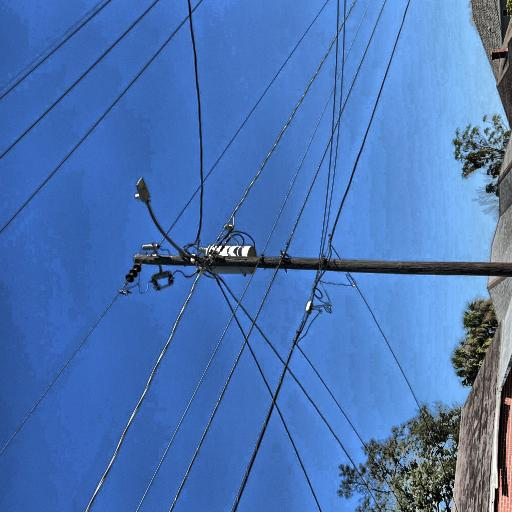pole: (104, 259, 134, 512)
street light: (124, 262, 199, 334)
transformer: (110, 341, 140, 400)
